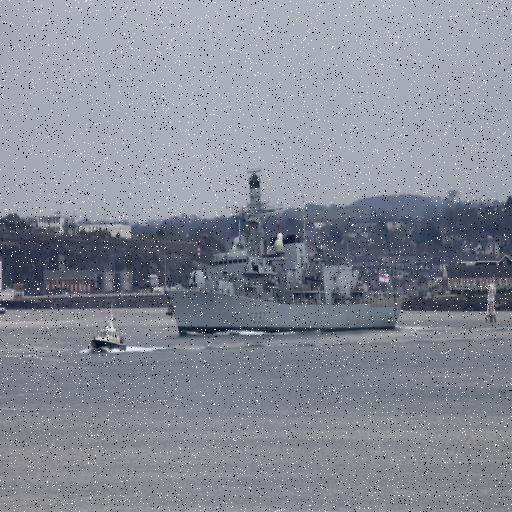Fragata: (165, 168, 409, 341)
